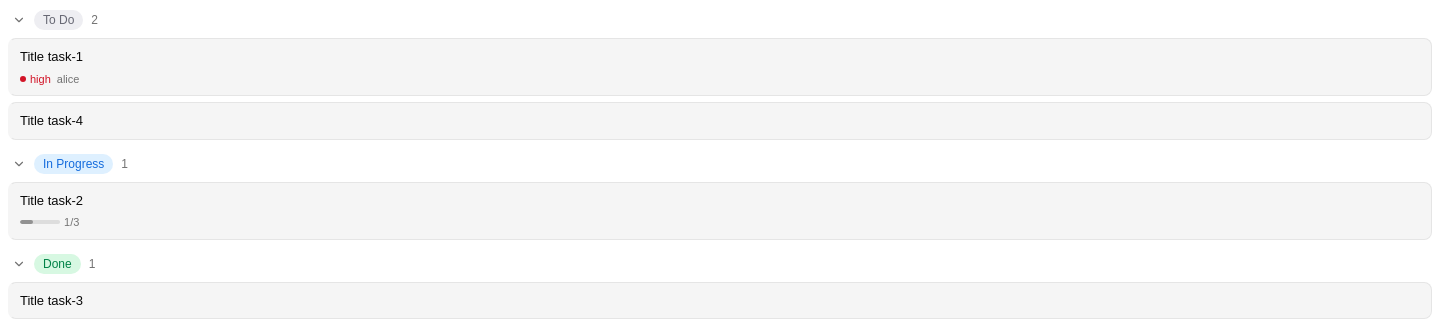
Test: Smoke C2: the sidebar groups real tasks correctly › announces the collapsed and expanded state on the toggle
Step 1. Click the button "Done 1" → click(57, 264), box [8, 252, 1432, 276]
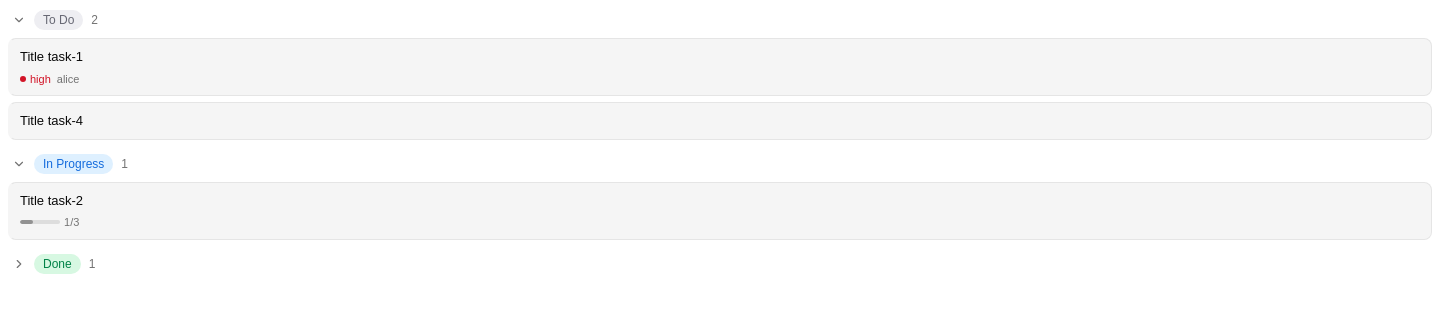
expect the button "Done 1" is collapsed: met
Step 2. Click the button "Done 1" → click(57, 264), box [8, 252, 1432, 276]
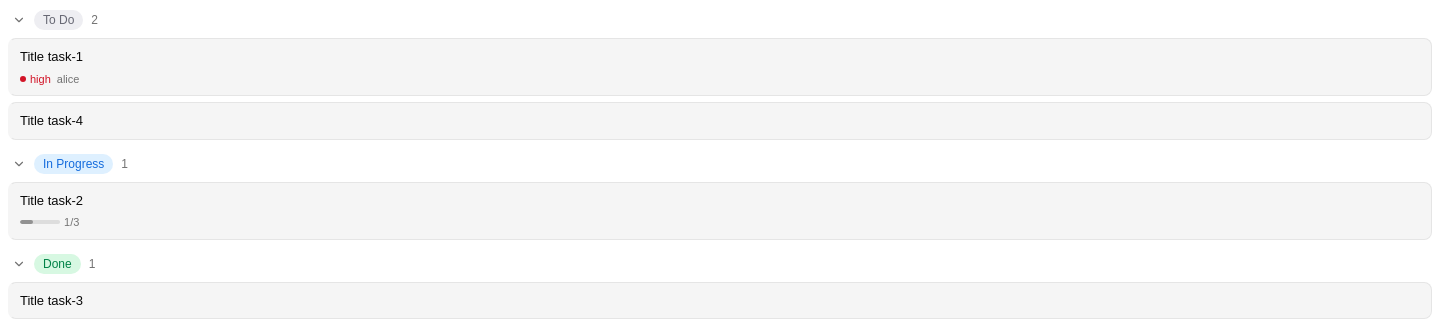
expect the button "Done 1" is expanded: met, box [8, 252, 1432, 276]
